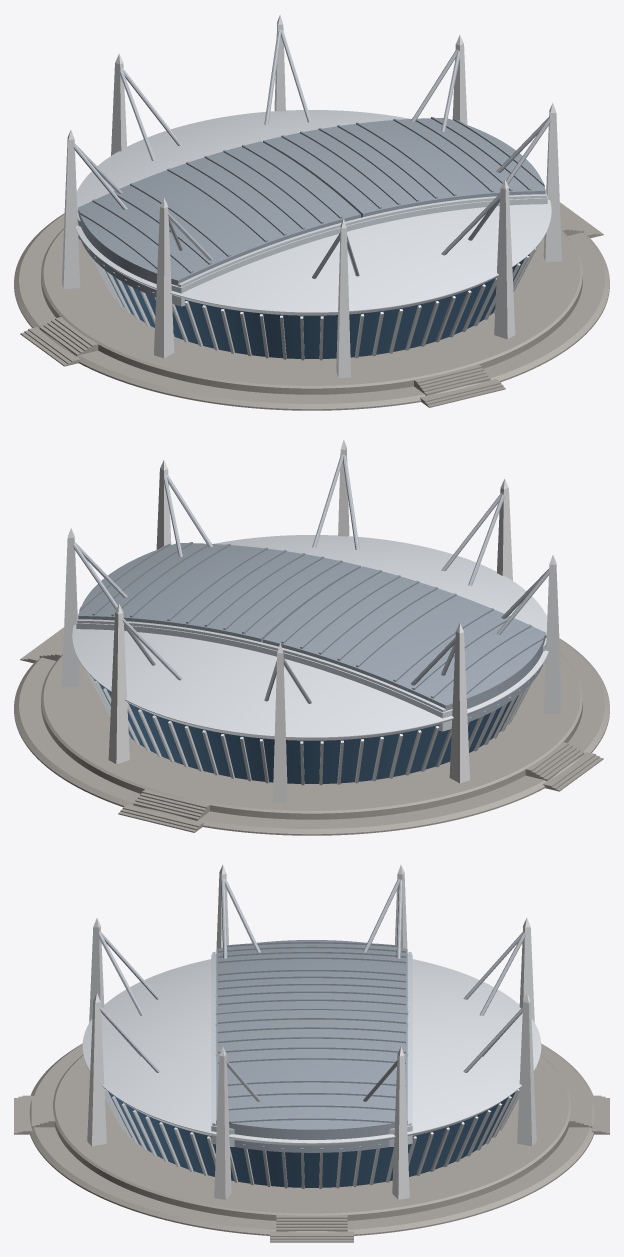
The model's file is preview.glb.
The picture shows the model from 3 angles, top to bottom: view 1: azimuth 30°, elevation 25°; view 2: azimuth 150°, elevation 25°; view 3: azimuth 270°, elevation 25°; orthographic projection. The views are drawn at different scales.
Parts seen in each view (by area): view 1: closed__podium, closed__roof, closed__panels, open__panels, closed__pylons, closed__facade, closed__stays, closed__ribs, closed__roof_band, open__roof; view 2: closed__podium, closed__roof, closed__panels, open__panels, closed__pylons, closed__facade, closed__stays, closed__ribs, closed__roof_band, open__roof; view 3: closed__podium, closed__roof, closed__panels, open__panels, closed__pylons, closed__facade, closed__ribs, closed__stays, closed__roof_band, open__roof.
Boxes of the visible parts, bbox=[...] form: closed__podium: bbox=[14, 202, 609, 410]; closed__roof: bbox=[75, 110, 551, 315]; closed__panels: bbox=[149, 121, 474, 252]; open__panels: bbox=[78, 117, 545, 297]; closed__pylons: bbox=[62, 15, 561, 378]; closed__facade: bbox=[105, 254, 529, 358]; closed__stays: bbox=[73, 29, 551, 278]; closed__ribs: bbox=[87, 243, 539, 360]; closed__roof_band: bbox=[77, 191, 547, 306]; open__roof: bbox=[76, 110, 550, 315]; closed__podium: bbox=[14, 627, 609, 835]; closed__roof: bbox=[72, 535, 548, 740]; closed__panels: bbox=[149, 546, 474, 677]; open__panels: bbox=[78, 542, 545, 722]; closed__pylons: bbox=[62, 440, 561, 803]; closed__facade: bbox=[94, 679, 518, 783]; closed__stays: bbox=[72, 454, 550, 703]; closed__ribs: bbox=[84, 668, 536, 785]; closed__roof_band: bbox=[76, 616, 546, 731]; open__roof: bbox=[74, 536, 527, 740]; closed__podium: bbox=[14, 1043, 609, 1242]; closed__roof: bbox=[82, 959, 541, 1145]; closed__panels: bbox=[216, 964, 407, 1074]; open__panels: bbox=[216, 940, 407, 1152]; closed__pylons: bbox=[87, 865, 536, 1199]; closed__facade: bbox=[104, 1088, 519, 1187]; closed__ribs: bbox=[104, 1089, 519, 1188]; closed__stays: bbox=[97, 879, 526, 1101]; closed__roof_band: bbox=[211, 951, 412, 1146]; open__roof: bbox=[113, 961, 538, 1145].
Bounding box in the file's own units: 184 × 55 × 184.
